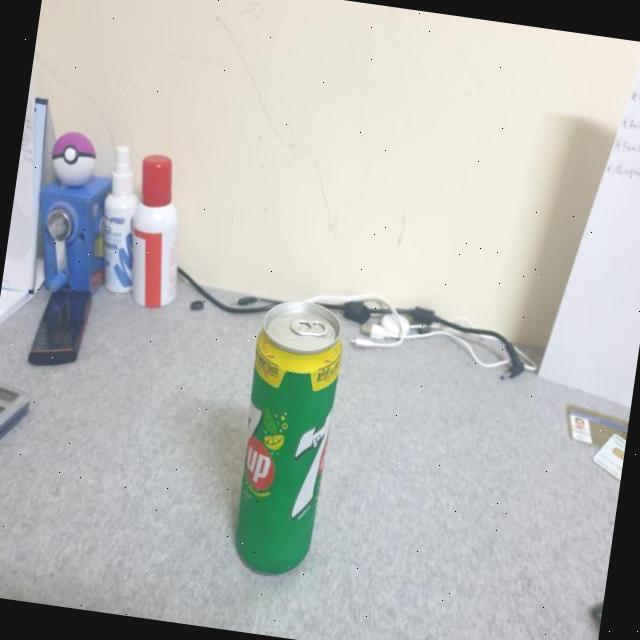trash: (218, 290, 348, 588)
